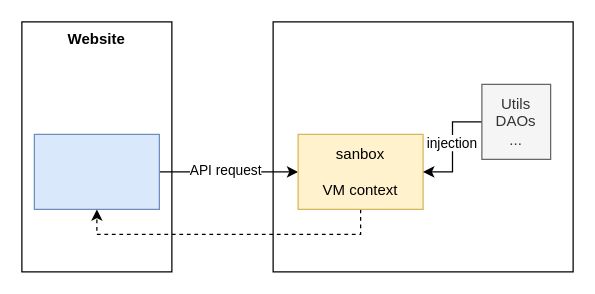
The diagram is 595 pixels wide and 294 high, and some of its shapes have lost their labels. The box of each missing label's shape, as (x1, y1, x2, y2) in pixels:
JS Code Editor: (33, 133, 159, 209)
Node Server: (272, 21, 573, 272)
